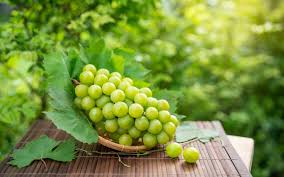anggur: (70, 60, 203, 166)
